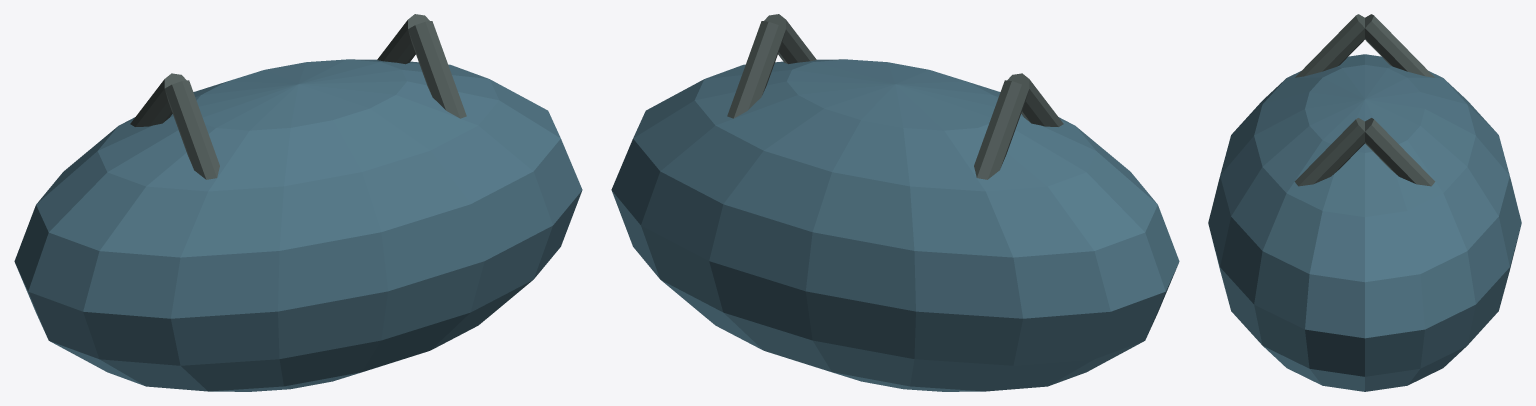
File: duffel.glb
3 views of the same model, side by side, from view 1: azimuth 30°, elevation 25°; view 2: azimuth 150°, elevation 25°; view 3: azimuth 270°, elevation 25° (orthographic). The views are drawn at different scales.
Visible parts, largest first — view 1: duffel_Blue, duffel_Ink; view 2: duffel_Blue, duffel_Ink; view 3: duffel_Blue, duffel_Ink.
Boxes of the visible parts, x1,y1,x2,y2 form: duffel_Blue: [14, 59, 582, 391]; duffel_Ink: [130, 14, 466, 179]; duffel_Blue: [611, 59, 1179, 391]; duffel_Ink: [727, 14, 1063, 179]; duffel_Blue: [1208, 54, 1521, 391]; duffel_Ink: [1294, 14, 1435, 186].
Bounding box in the file's own units: 0.8 × 0.452 × 0.46.
